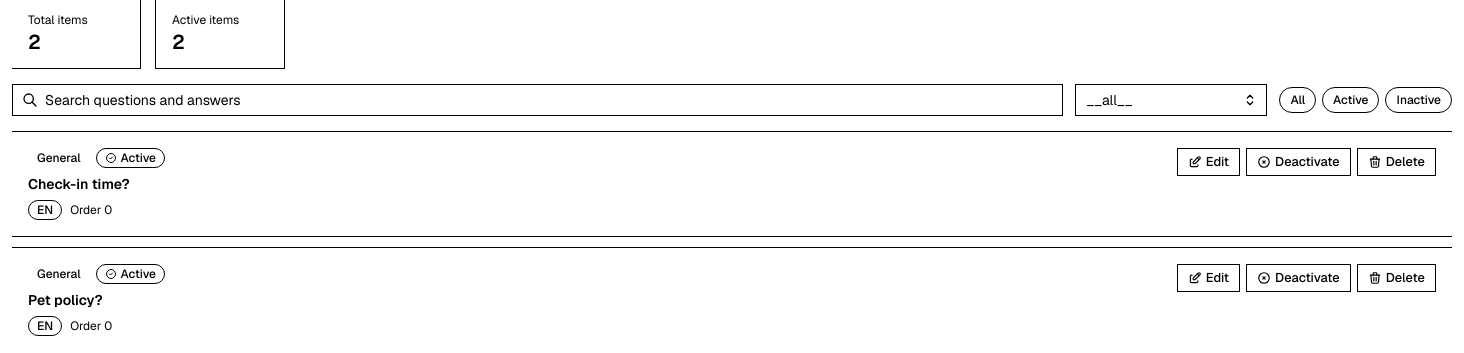
it: KnowledgeView — filters and search › search matches question text
This screenshot has width=1464, height=353.
Expected: the text "Check-in time?" is shown, [28,175,130,193]
Type "pet" into the search field named "Search knowledge base" at (538, 100), box [12,84,1063,116]
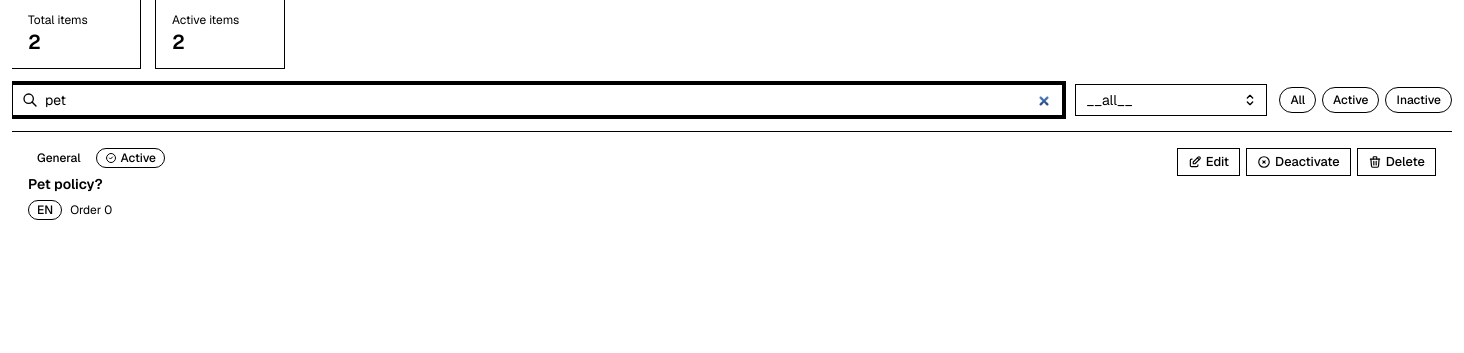
Expected: the text "Pet policy?" is shown, [28,175,102,193]
Result: the text "Check-in time?" is gone
